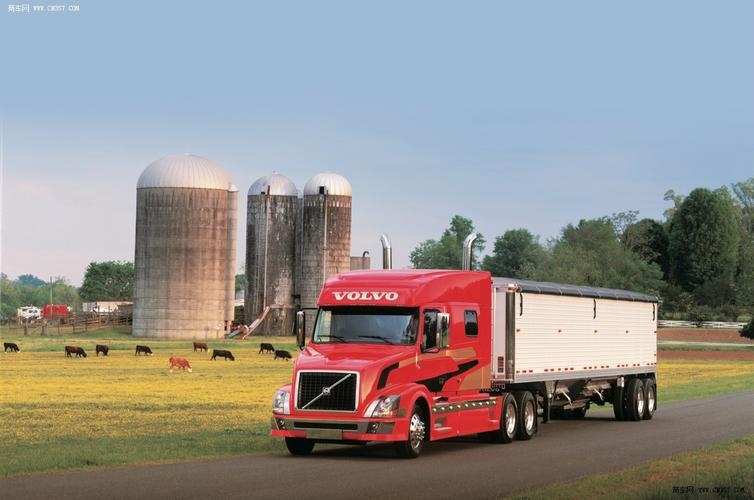卡车: (265, 272, 679, 454)
